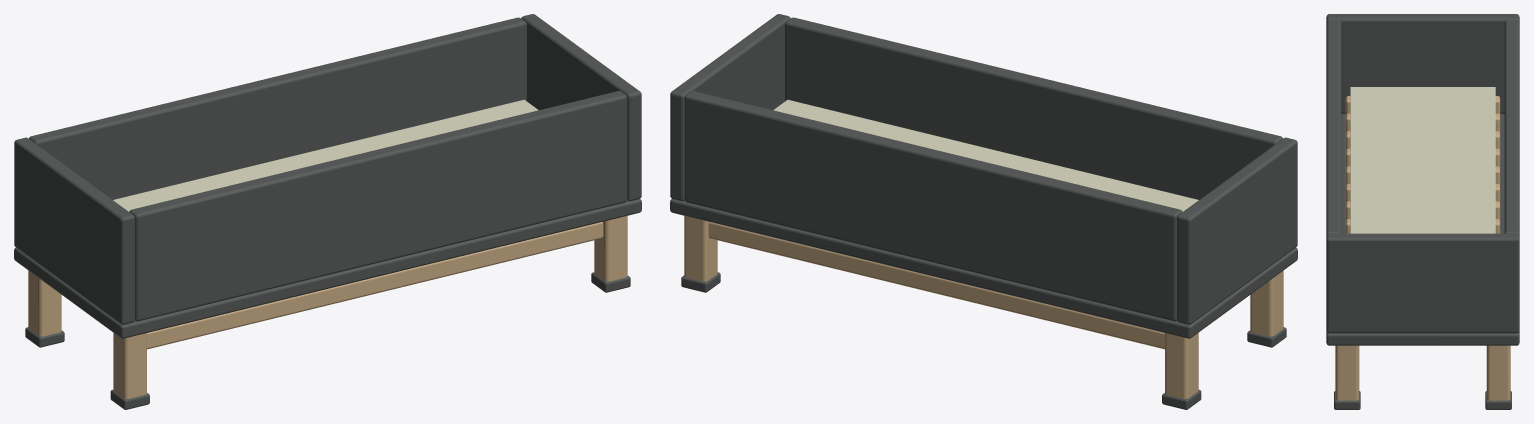
The model's file is bookbinding-and-paper-mill-pulp-beating-trough-5c23a848__30547.glb.
3 views of the same model, side by side, from view 1: azimuth 30°, elevation 25°; view 2: azimuth 150°, elevation 25°; view 3: azimuth 270°, elevation 25° (orthographic). The views are drawn at different scales.
Visible parts, largest first — view 1: pulp-beating-trough; view 2: pulp-beating-trough; view 3: pulp-beating-trough.
Part boxes in pixels (left/top/right/bottom): pulp-beating-trough: left=14, top=14, right=641, bottom=409; pulp-beating-trough: left=670, top=14, right=1297, bottom=409; pulp-beating-trough: left=1326, top=14, right=1519, bottom=409.
Size of the model in its own units: 1.8 by 0.65 by 0.65.
